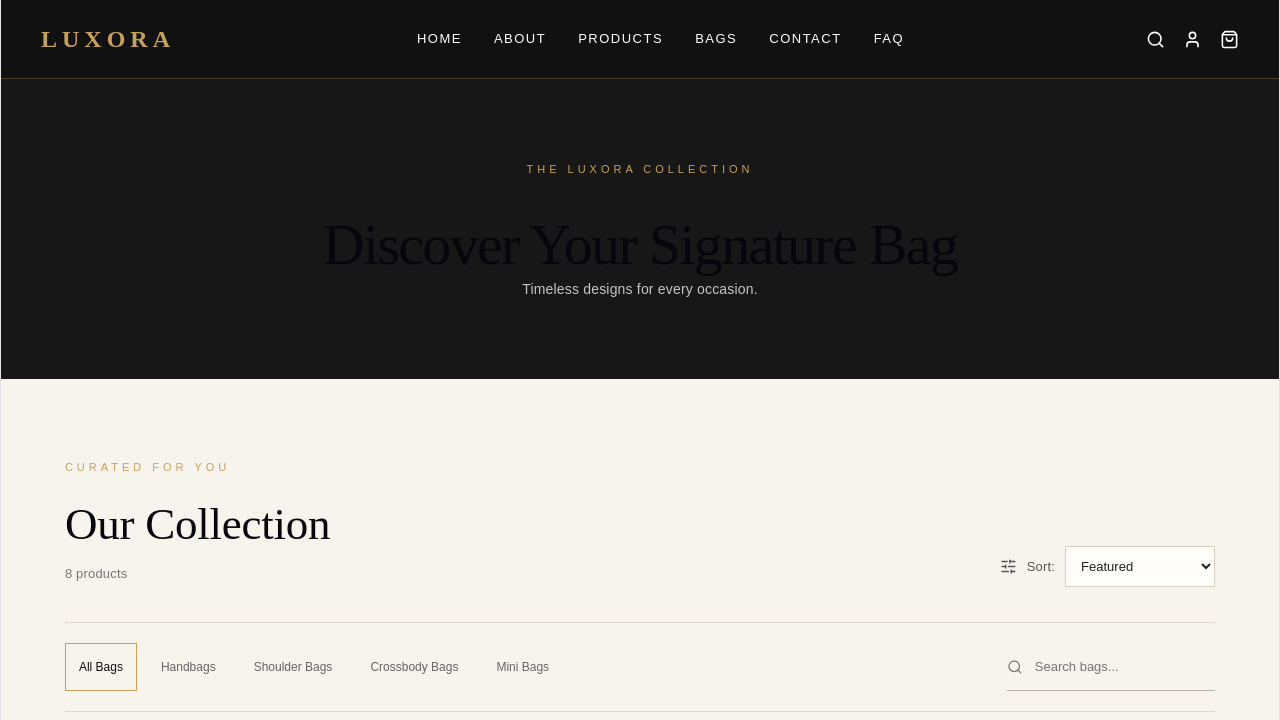
Test: LUXORA Assignment Tests › Products - displays bags and supports searching
The width and height of the screenshot is (1280, 720).
Check: the text "8 products" is shown, box [65, 566, 127, 581]
Type "Élan" into the search field with placeholder "Search bags..." at (1124, 667), box [1033, 653, 1215, 681]
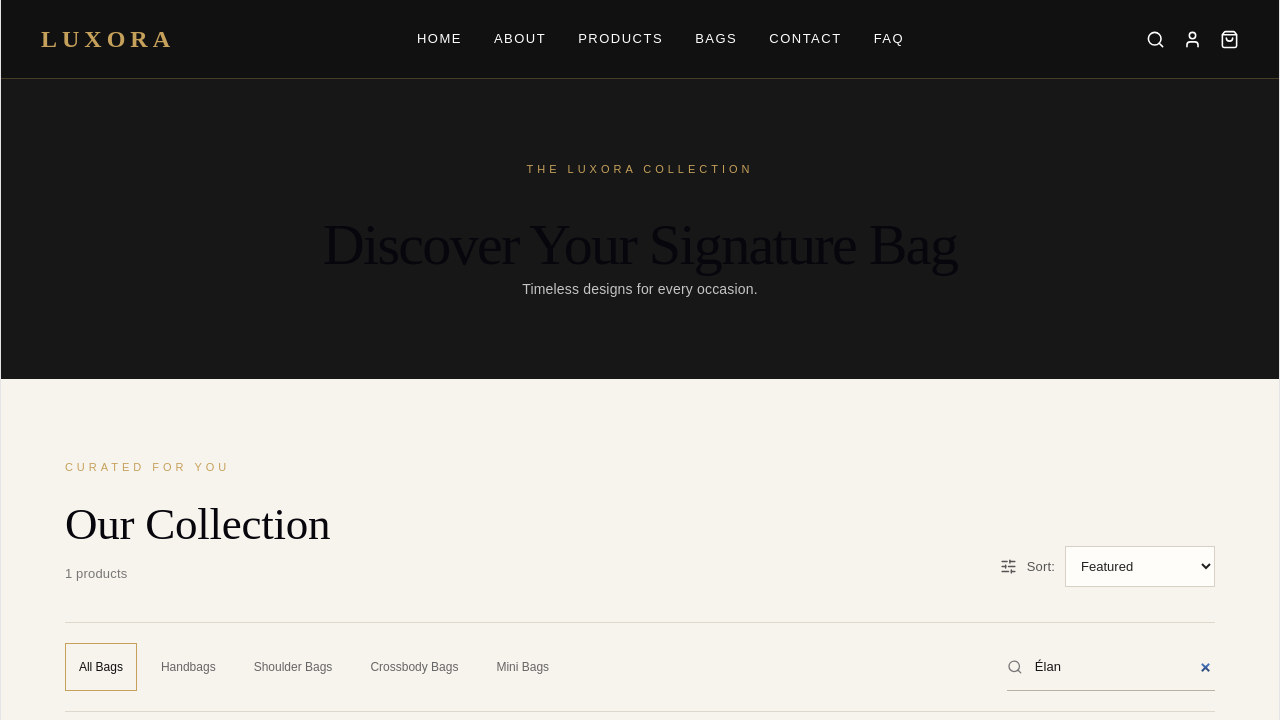
Check: the text "1 products" is shown, box [65, 566, 127, 581]
